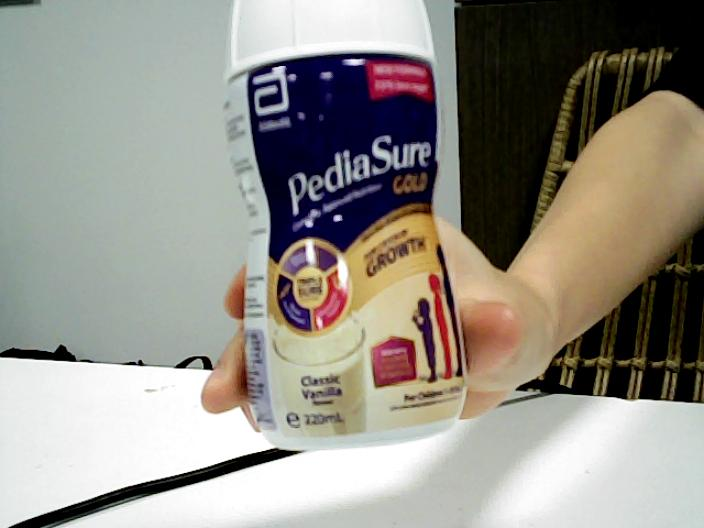Babyfood_200-299g_Halal_NonHealthy: (239, 1, 467, 450)
